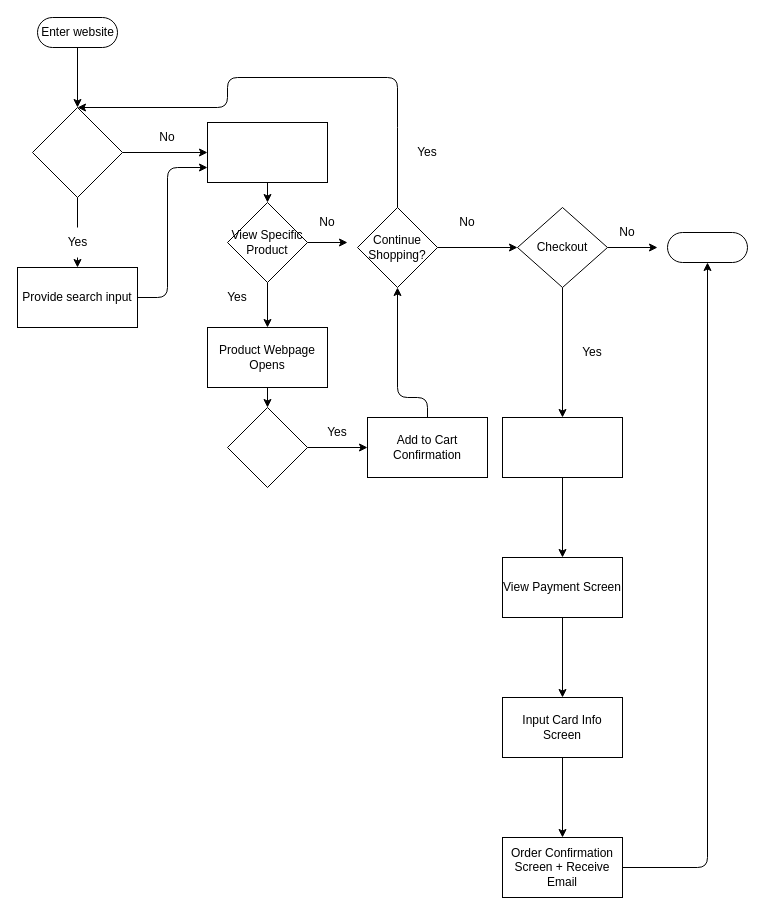
Image size: 765x915. Some labels were removed from this diagram. The centre of each missing label's shape, as x and y in pixels:
Add to cart?: (x=267, y=447)
Leave Website: (x=707, y=247)
Look over products: (x=267, y=152)
Searching for Product?: (x=77, y=152)
View Card Screen: (x=562, y=447)
